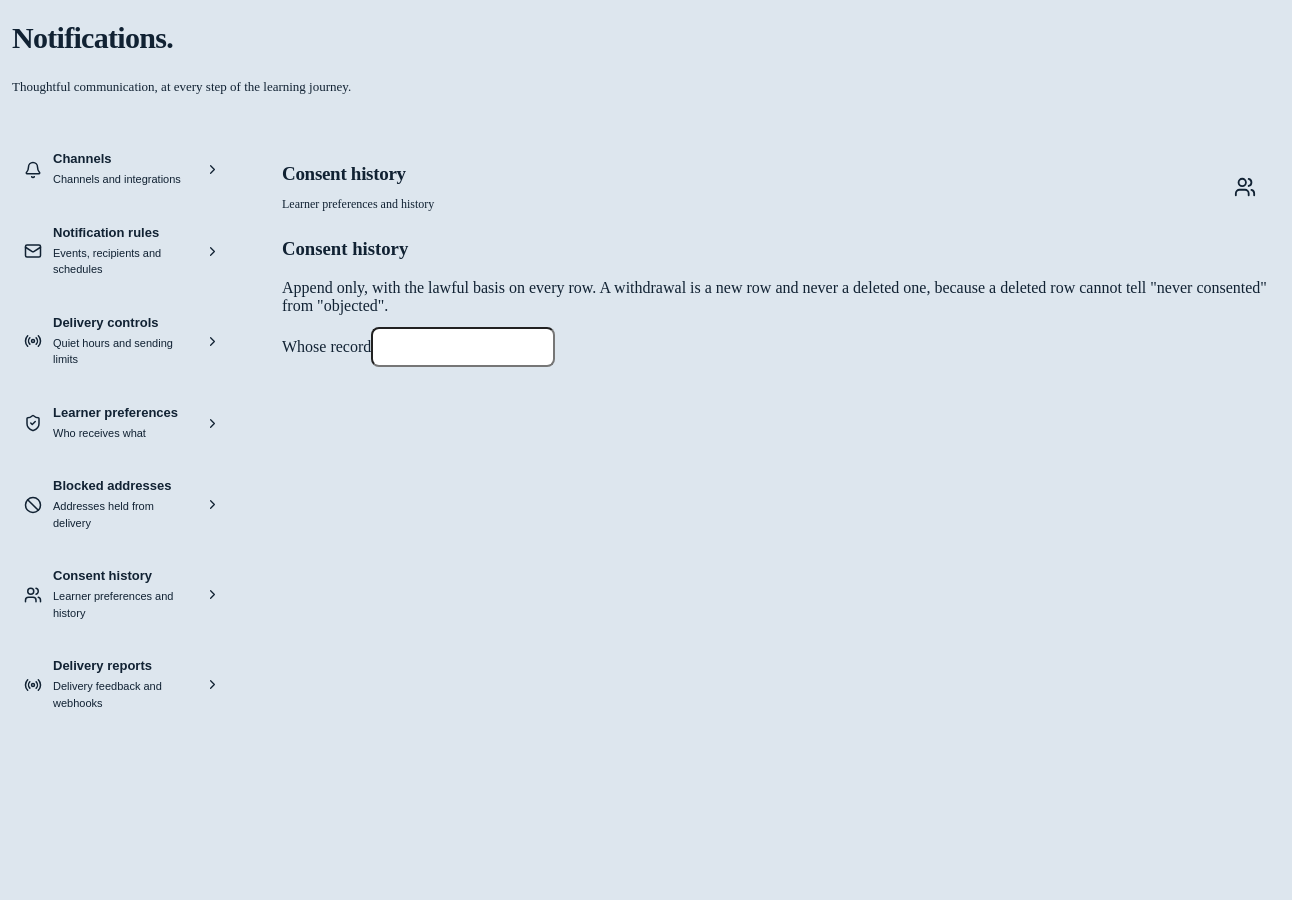
delivery feedback › names the endpoint per channel and the mappers that can read a report
Click the tab "Delivery reports": point(122, 685) [12,643,232,726]
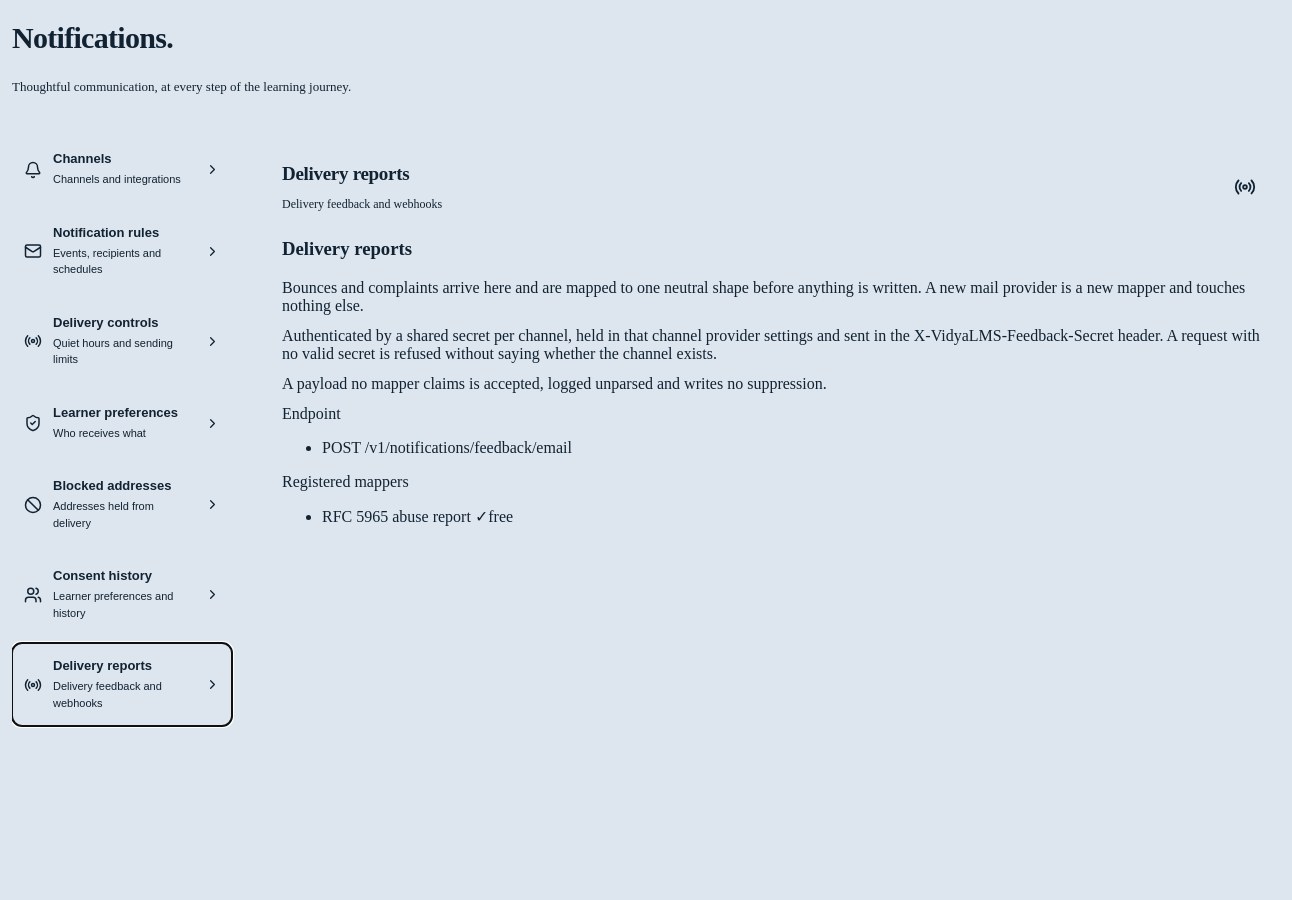
Result: the list item "POST /v1/notifications/feedback/email" is shown at [322,439,572,456]
Result: the list item "RFC 5965 abuse report ✓free" is shown at [322,508,513,525]
Result: the text "X-VidyaLMS-Feedback-Secret" is shown at [282,327,1260,362]
